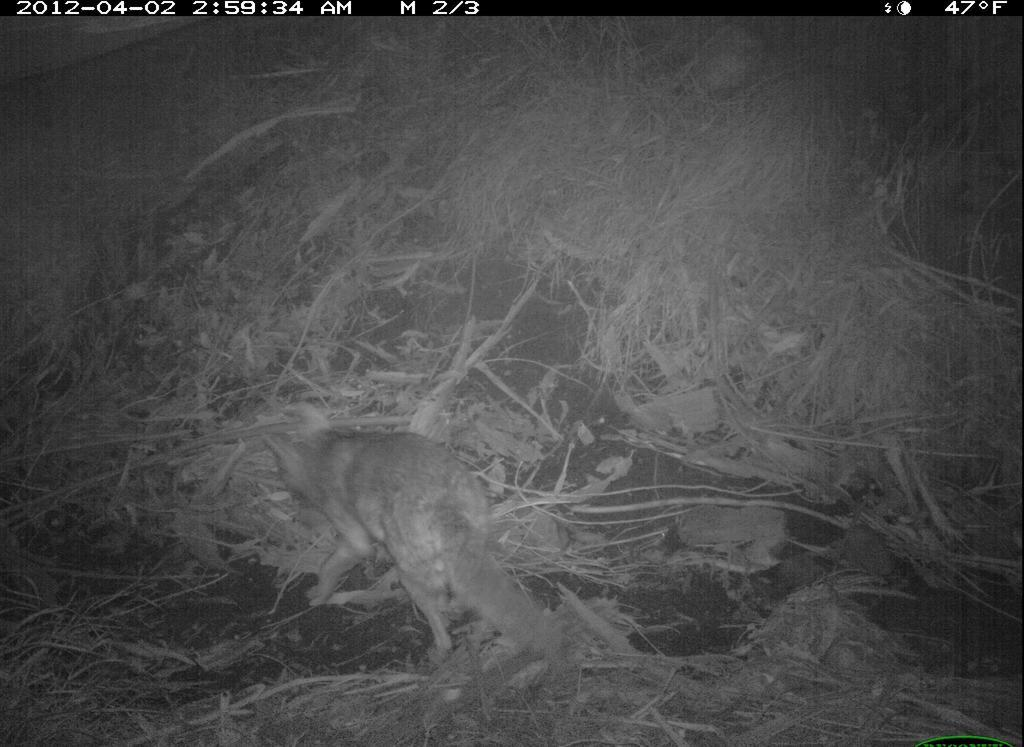coyote: (247, 383, 589, 660)
